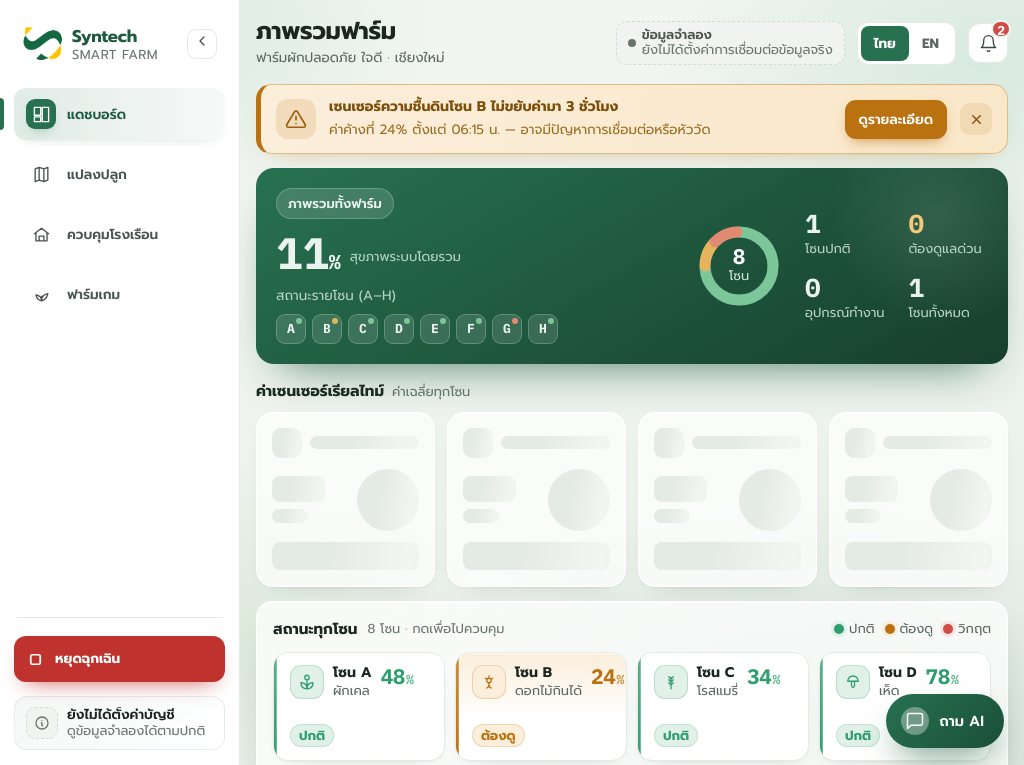
Test case: DashboardPage › แบนเนอร์เตือนเปิดหน้าต่างสุขภาพเซนเซอร์ และกดรับทราบแล้วแบนเนอร์หาย
Expected: the text "เซนเซอร์ความชื้นดินโซน B ไม่ขยับค่ามา 3 ชั่วโมง" is shown, [329,96,618,117]
Click the button "ดูรายละเอียด" at (896, 119), box [845,100,947,139]
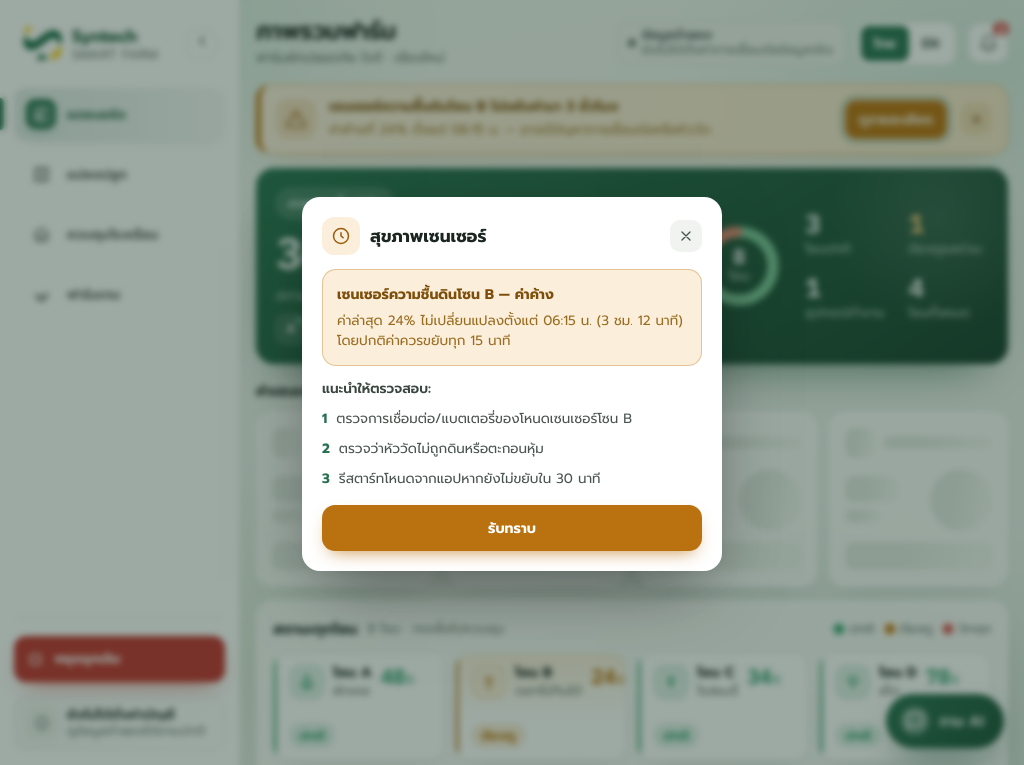
Expected: the text "เซนเซอร์ความชื้นดินโซน B — ค่าค้าง" is shown, [337,284,554,305]
Expected: the text "ตรวจการเชื่อมต่อ/แบตเตอรี่ของโหนดเซนเซอร์โซน B" is shown, [336,408,632,429]
Click the button "รับทราบ" at (512, 528), box [322,505,702,551]
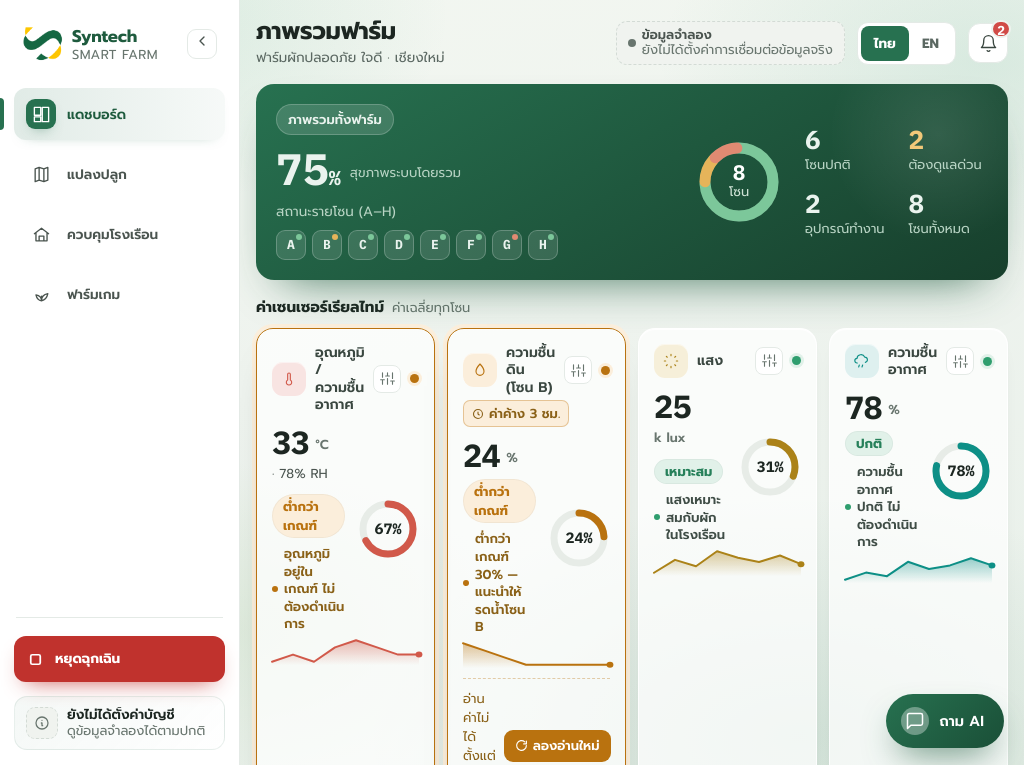
Expected: the text "เซนเซอร์ความชื้นดินโซน B ไม่ขยับค่ามา 3 ชั่วโมง" is gone
